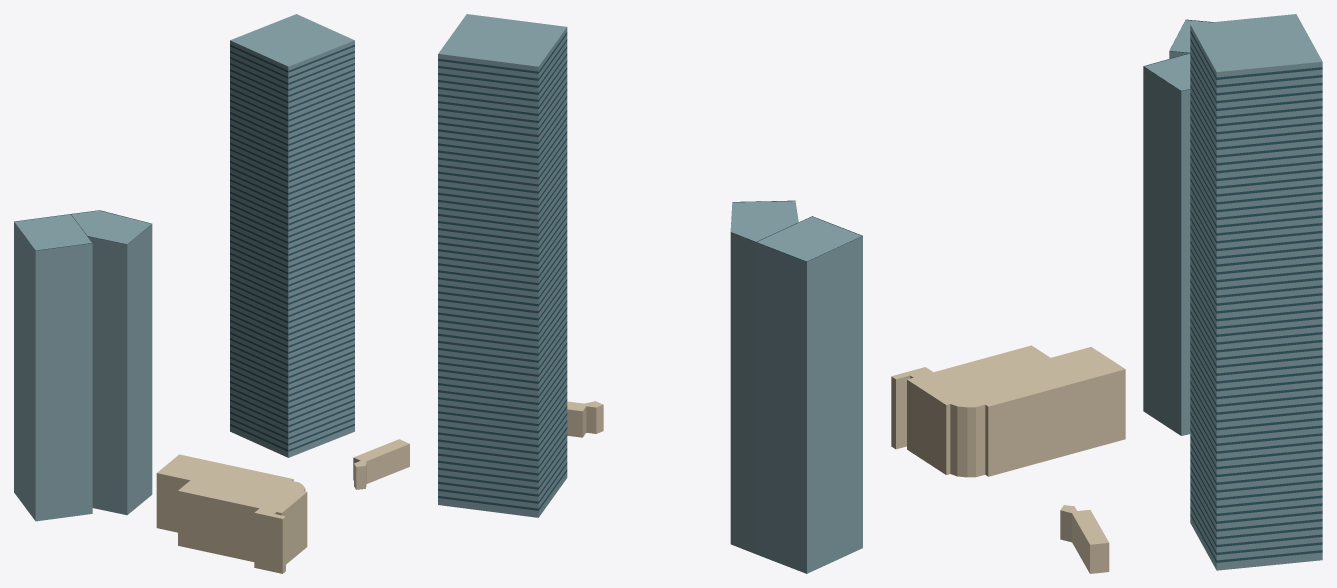
Rendered from city_5_1.glb.
The picture shows the model from 3 angles, left to right: view 1: azimuth 30°, elevation 25°; view 2: azimuth 150°, elevation 25°; view 3: azimuth 270°, elevation 25°; orthographic projection. The views are drawn at different scales.
Visible parts, largest first — view 1: city_5_1; view 2: city_5_1; view 3: city_5_1.
Boxes of the visible parts, box(x1,y1,x2,y2) form: city_5_1: box(14, 14, 409, 573); city_5_1: box(438, 14, 862, 573); city_5_1: box(891, 14, 1322, 573).
Size of the model in its own units: 231 by 256 by 201.
